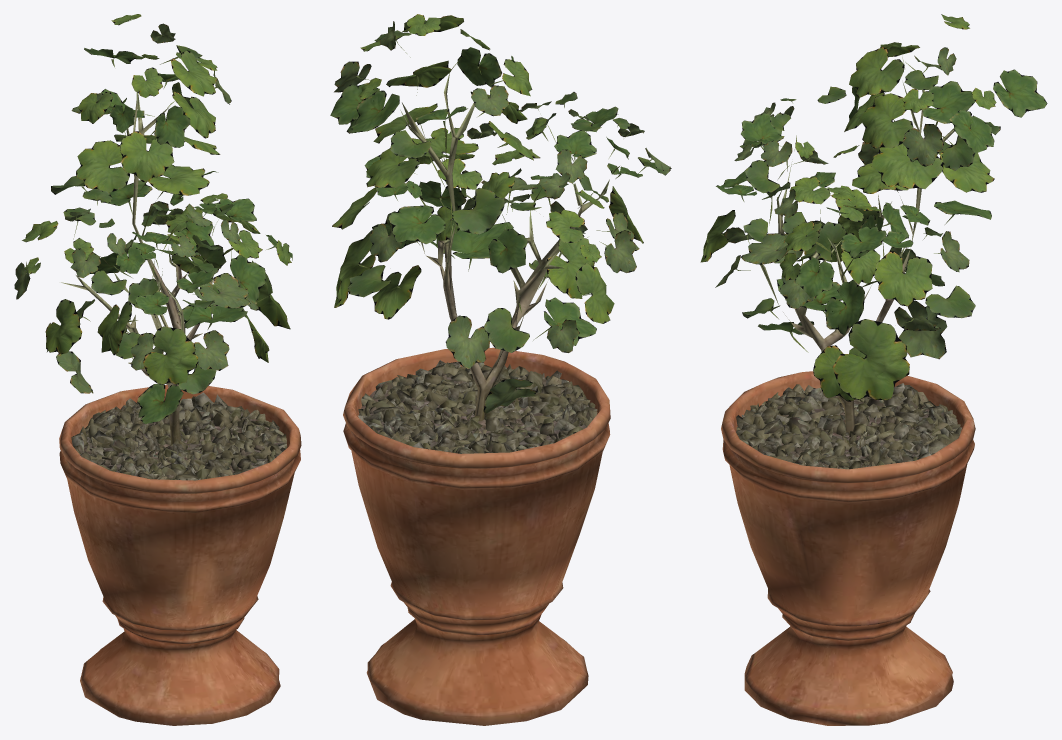
The model's file is potted_plant_01.glb.
The picture shows the model from 3 angles, left to right: view 1: azimuth 30°, elevation 25°; view 2: azimuth 150°, elevation 25°; view 3: azimuth 270°, elevation 25°; orthographic projection. The views are drawn at different scales.
Parts seen in each view (by area): view 1: potted_plant_01_stem, potted_plant_01_leaves; view 2: potted_plant_01_stem, potted_plant_01_leaves; view 3: potted_plant_01_stem, potted_plant_01_leaves.
Part boxes in pixels (x1,y1,x2,y2): potted_plant_01_stem: (59,92,301,725); potted_plant_01_leaves: (14,14,292,423); potted_plant_01_stem: (343,72,610,725); potted_plant_01_leaves: (330,14,671,413); potted_plant_01_stem: (721,83,975,725); potted_plant_01_leaves: (700,14,1047,401).
Size of the model in its own units: 0.5866 by 1.34 by 0.6336.
Materials: 2 (2 with a texture image).
